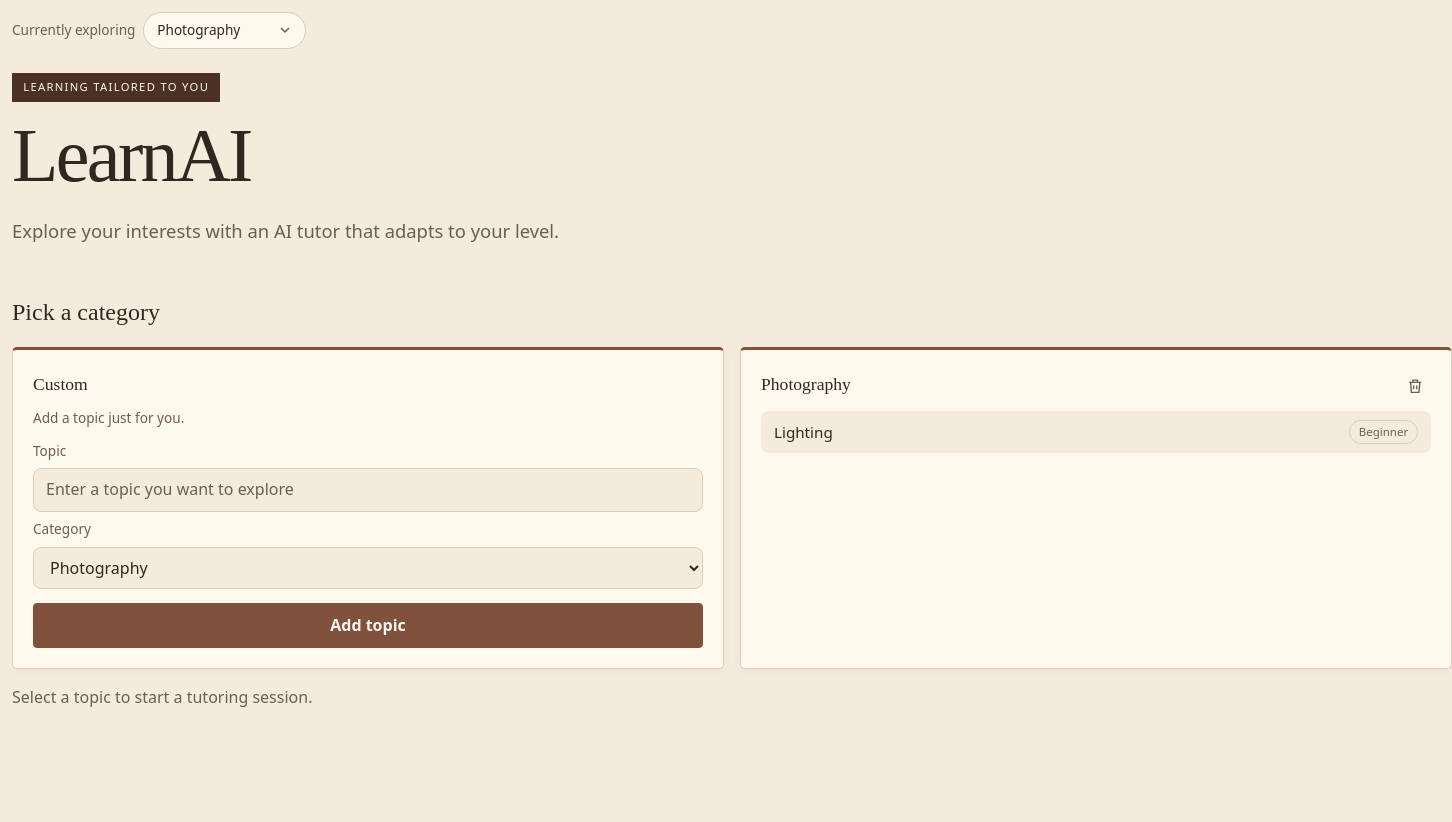
Test: learning plan › retains a category and displays errors when deletion fails
This screenshot has width=1452, height=822.
Click the button named "Delete Photography category" at x=1415, y=386, box [1399,370,1431,402]
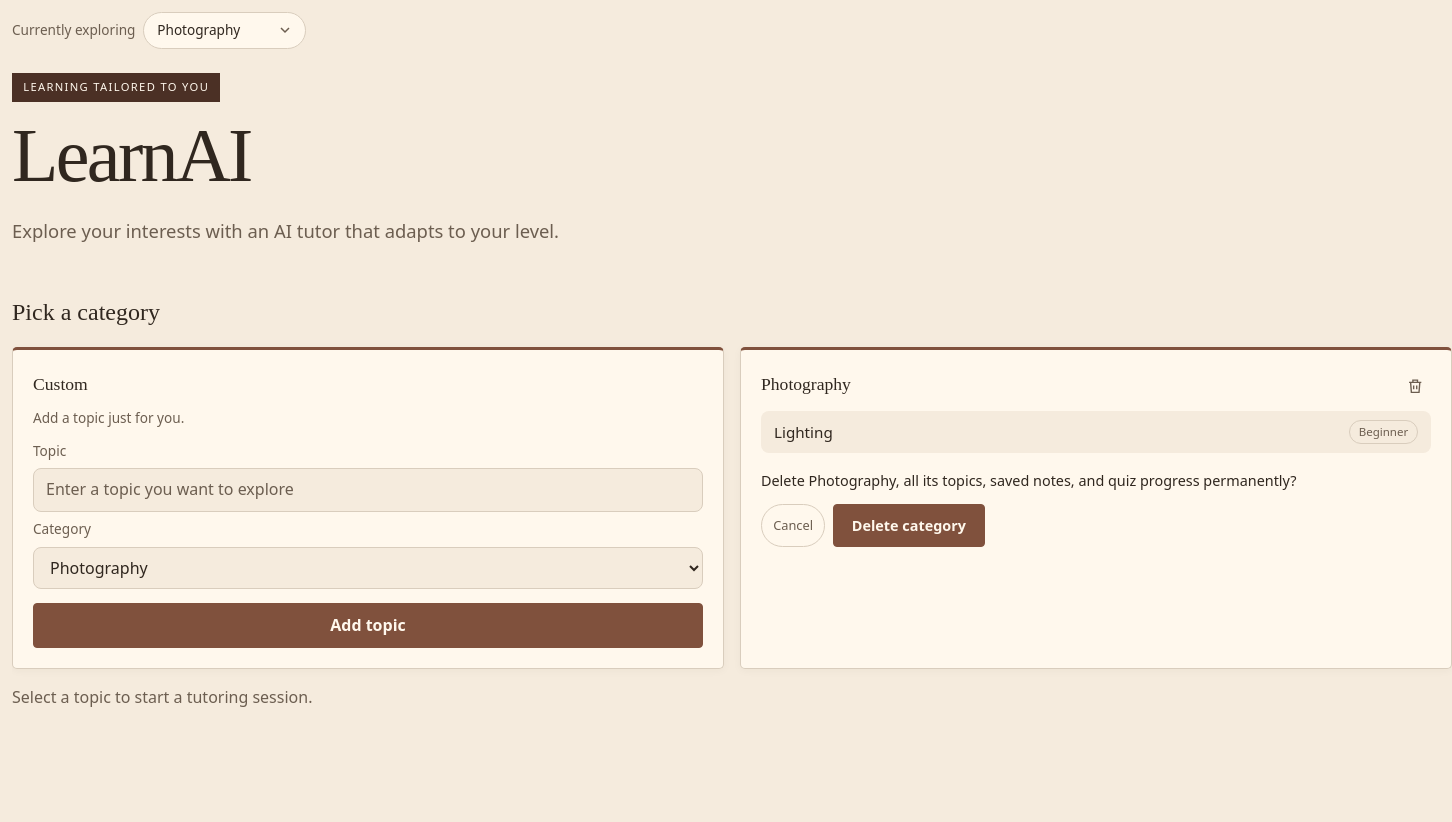
Click the button "Delete category" at x=909, y=525, box [833,504,984,547]
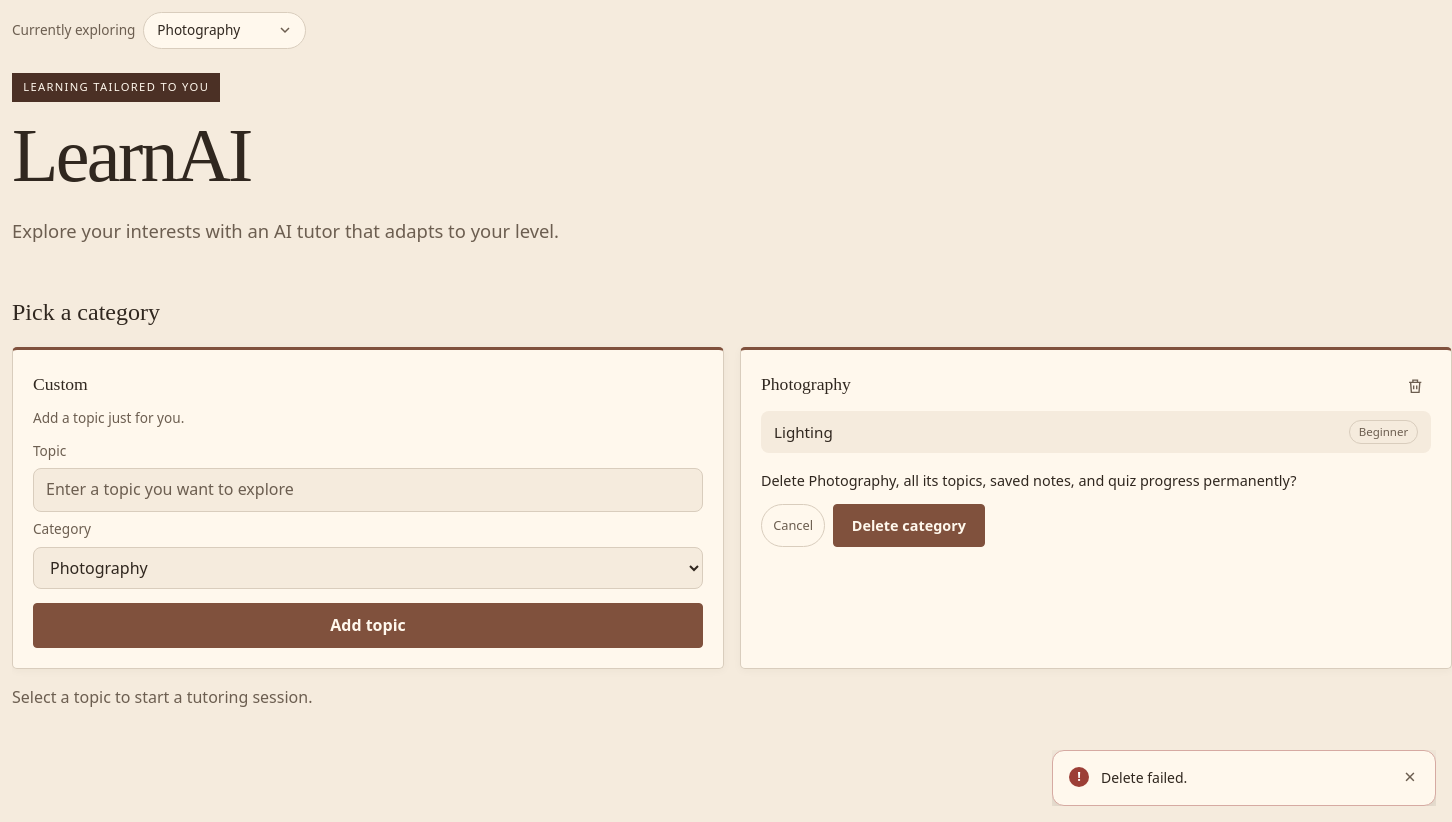
Expected: the heading "Photography" is shown, [761,370,851,399]
Result: the message reads "Delete failed." at [1101,768,1187,787]
Click the button "Cancel" at x=793, y=525, box [761,504,825,547]
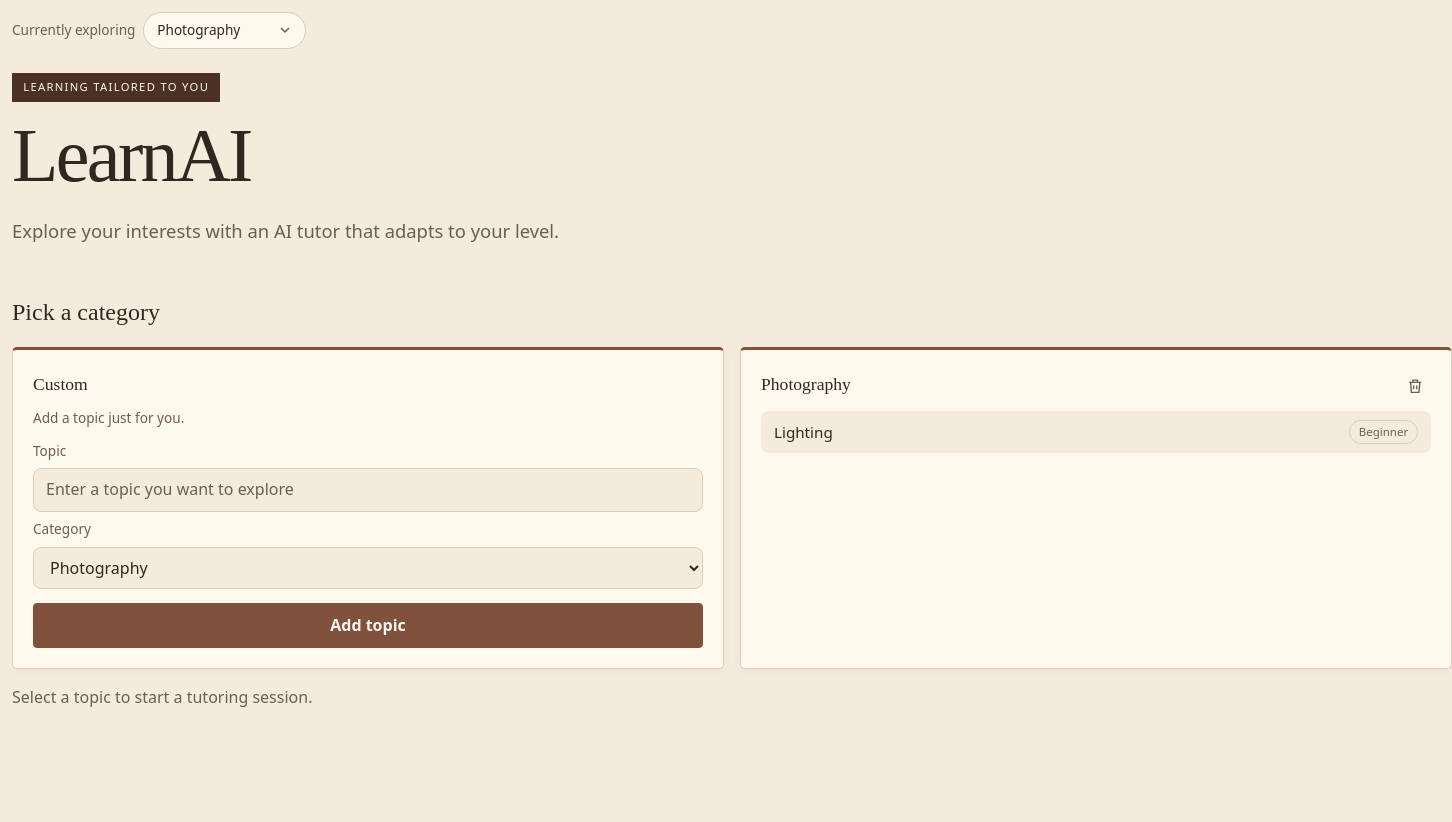
Result: the text "Delete Photography" is gone
